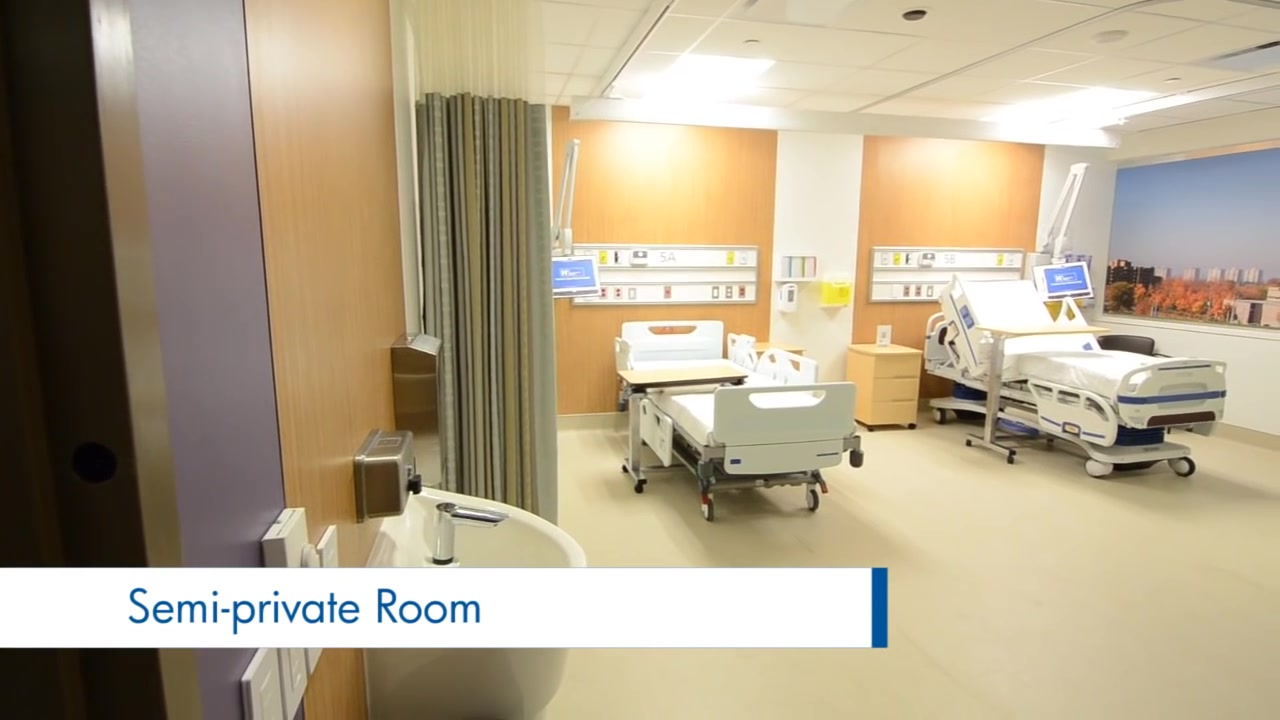bedrail: (1027, 376, 1118, 447), (941, 273, 990, 377), (754, 347, 820, 397), (640, 398, 673, 468), (727, 331, 758, 370), (614, 336, 634, 371)
bedside_monitor: (1032, 262, 1095, 302), (551, 255, 602, 299)
bedside_table: (845, 343, 922, 431)
chair: (1097, 335, 1155, 357)
curtain: (417, 91, 560, 527)
dispenser: (391, 332, 443, 486), (776, 254, 817, 281), (777, 283, 799, 315)
faucet: (431, 501, 509, 567)
foot_board: (714, 382, 857, 474), (1117, 358, 1227, 430)
hospital_bed: (924, 273, 1227, 479), (614, 320, 864, 521)
medical_waste_container: (819, 279, 851, 308)
overbed_table: (964, 324, 1112, 464), (616, 365, 749, 494)
sink: (362, 486, 574, 569)
